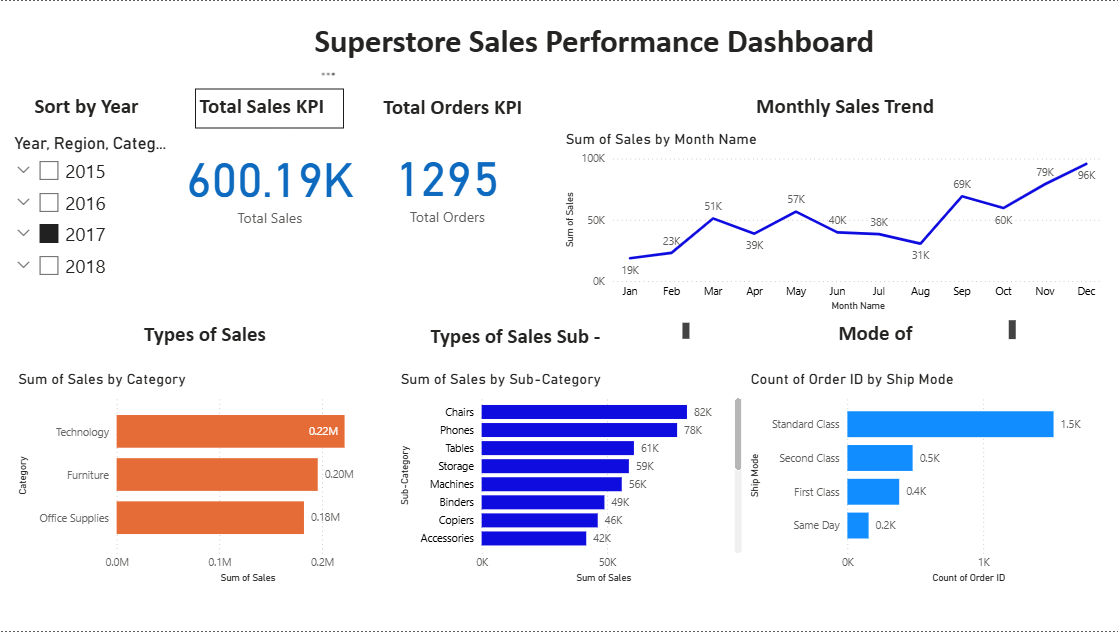

The dashboard page shown, as its layout file describes it:
{"tool":"powerbi","page":{"name":"Page 1","canvas":[1280,720],"ordinal":0},"visuals":[{"type":"card","fields":{"Values":["cleaned_superstore.Total Sales"]},"box":[205.7,147.1,205.7,124.3],"z":0},{"type":"lineChart","fields":{"Y":["Sum(cleaned_superstore.Sales)"],"Category":["cleaned_superstore.Month Name"]},"box":[641.4,147.1,624.3,212.9],"z":1000},{"type":"clusteredBarChart","fields":{"Y":["Sum(cleaned_superstore.Sales)"],"Category":["cleaned_superstore.Category"]},"box":[15.7,421.4,437.1,248.6],"z":2000},{"type":"textbox","box":[222.9,100,170,45.7],"z":3000},{"type":"textbox","box":[835.7,100,260,45.7],"z":4000},{"type":"textbox","box":[130,360,208.6,45.7],"z":5000},{"type":"slicer","fields":{"Values":["cleaned_superstore.Year","cleaned_superstore.Region","cleaned_superstore.Category"]},"box":[2.9,147.1,208.6,187.1],"z":6000},{"type":"clusteredBarChart","fields":{"Category":["cleaned_superstore.Sub-Category"],"Y":["Sum(cleaned_superstore.Sales)"]},"box":[452.9,421.4,400,248.6],"z":7000},{"type":"clusteredBarChart","fields":{"Category":["cleaned_superstore.Ship Mode"],"Y":["CountNonNull(cleaned_superstore.Order ID)"]},"box":[852.9,421.4,412.9,248.6],"z":8000},{"type":"card","fields":{"Values":["cleaned_superstore.Total Orders"]},"box":[417.1,145.7,188.6,124.3],"z":9000},{"type":"textbox","box":[432.9,101.4,207.1,45.7],"z":10000},{"type":"textbox","box":[34.3,100,160,45.7],"z":10001},{"type":"textbox","box":[354.3,18.6,661.4,62.9],"z":10002},{"type":"textbox","box":[487.1,362.9,305.7,42.9],"z":10003},{"type":"textbox","box":[952.9,360,212.9,45.7],"z":10004}]}

Visuals, with their boxes in screenshot pixels (x1, y1, x2, y2), scaled from the page's 1280x720 canvas onto the 1118x632 screenshot:
card - cleaned_superstore.Total Sales: (180,129,359,238)
lineChart - Sum(cleaned_superstore.Sales) x cleaned_superstore.Month Name: (560,129,1106,316)
clusteredBarChart - Sum(cleaned_superstore.Sales) x cleaned_superstore.Category: (14,370,395,588)
textbox: (195,88,343,128)
textbox: (730,88,957,128)
textbox: (114,316,296,356)
slicer - cleaned_superstore.Year x cleaned_superstore.Region: (3,129,185,293)
clusteredBarChart - cleaned_superstore.Sub-Category x Sum(cleaned_superstore.Sales): (396,370,745,588)
clusteredBarChart - cleaned_superstore.Ship Mode x CountNonNull(cleaned_superstore.Order ID): (745,370,1106,588)
card - cleaned_superstore.Total Orders: (364,128,529,237)
textbox: (378,89,559,129)
textbox: (30,88,170,128)
textbox: (309,16,887,72)
textbox: (425,319,692,356)
textbox: (832,316,1018,356)
